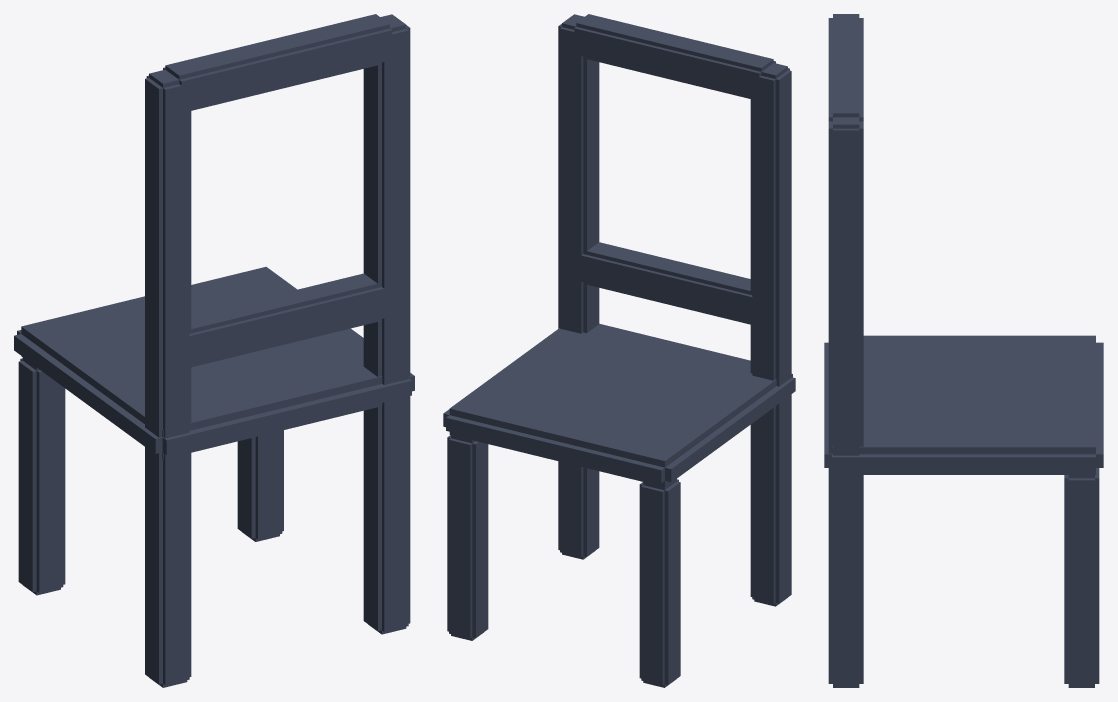
File: granite_chair_v0.glb
The picture shows the model from 3 angles, left to right: view 1: azimuth 30°, elevation 25°; view 2: azimuth 150°, elevation 25°; view 3: azimuth 270°, elevation 25°; orthographic projection. The views are drawn at different scales.
Parts seen in each view (by area): view 1: granite_chair_v0; view 2: granite_chair_v0; view 3: granite_chair_v0.
Part boxes in pixels (x1,y1,x2,y2): granite_chair_v0: [14, 14, 414, 687]; granite_chair_v0: [443, 14, 795, 687]; granite_chair_v0: [824, 14, 1103, 687].
Bounding box in the file's own units: 0.64 × 1.43 × 0.64.
